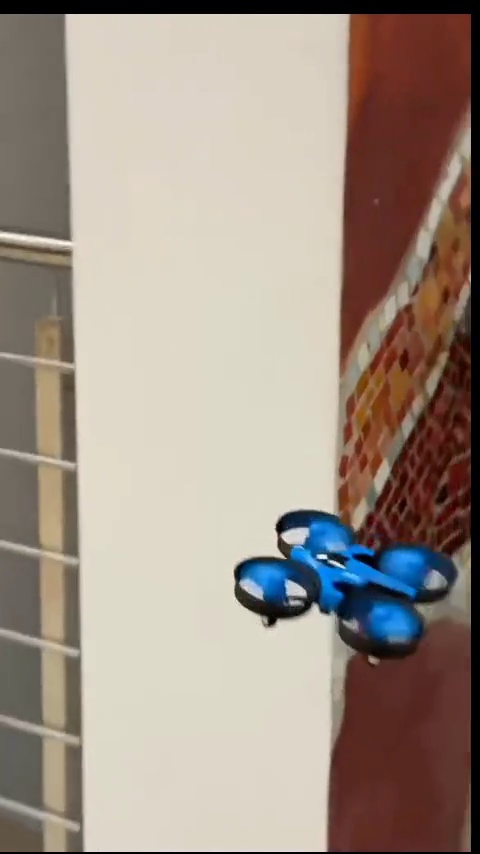drone: (229, 506, 459, 667)
